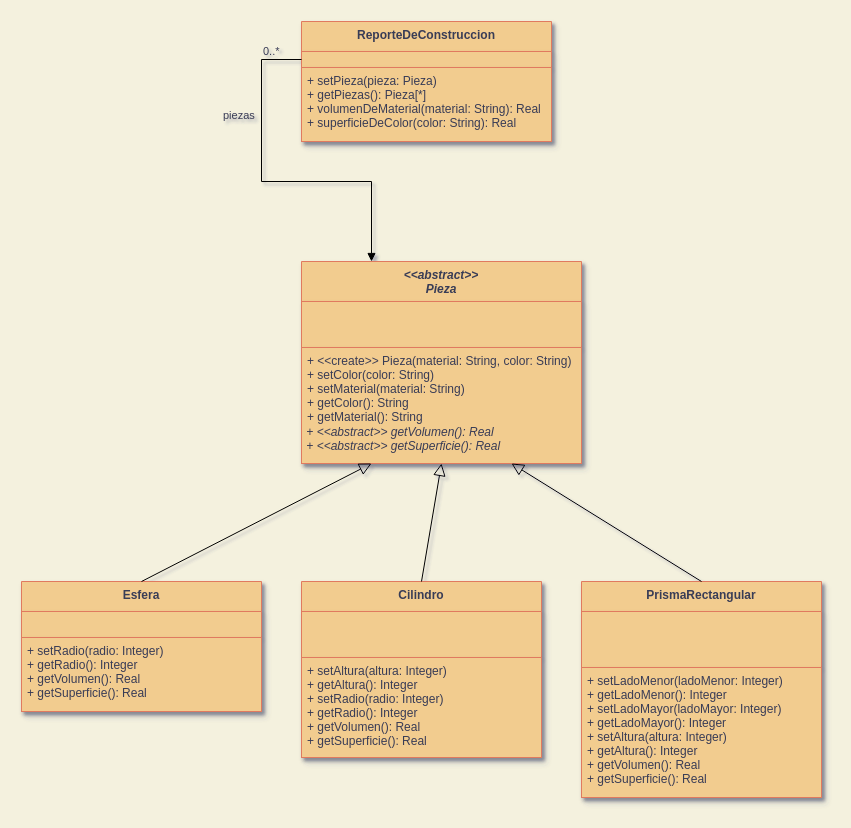
Image size: 851x828. Some labels were removed from this diagram. The centre of each missing label's shape, as x and y in pixels:
"- ladoMayor: Integer - ladoMenor: Integer - altura: Integer" goes at point (702, 640).
"- material: String - color: String" goes at point (442, 325).
"- radio: Integer" goes at point (142, 625).
"- radio: Integer - altura: Integer" goes at point (422, 635).
